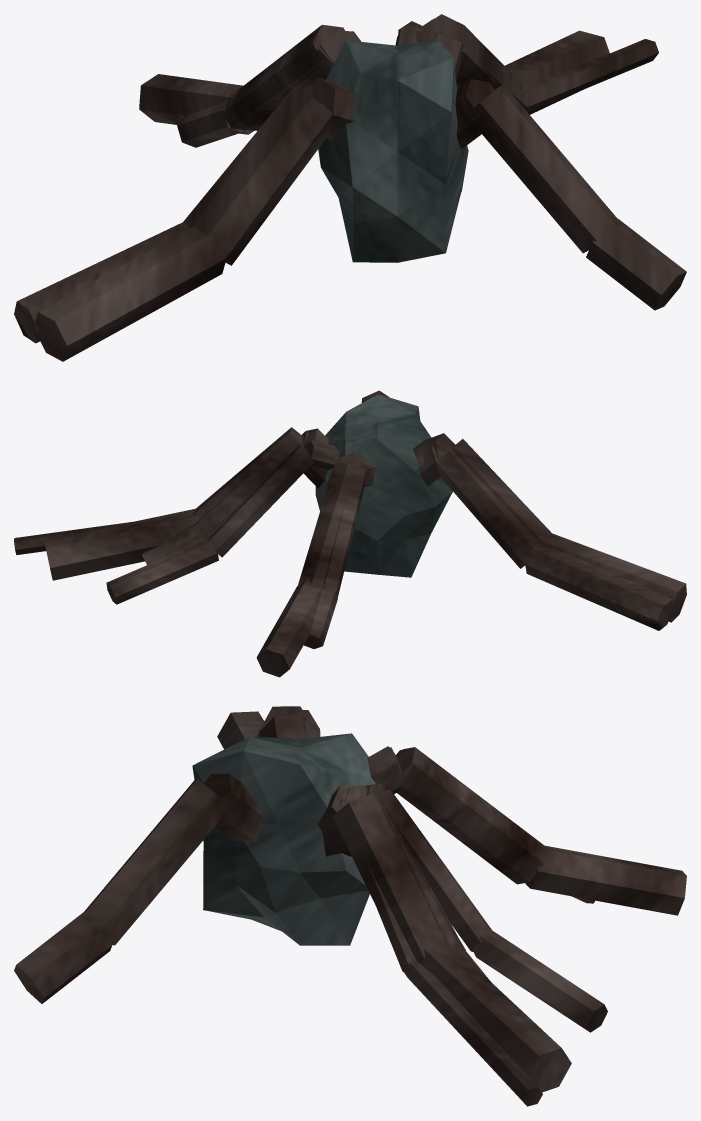
Rendered from 0162_root_cluster_12.glb.
The picture shows the model from 3 angles, top to bottom: view 1: azimuth 30°, elevation 25°; view 2: azimuth 150°, elevation 25°; view 3: azimuth 270°, elevation 25°; orthographic projection. The views are drawn at different scales.
Parts seen in each view (by area): view 1: wood_dark, stone_dark; view 2: wood_dark, stone_dark; view 3: wood_dark, stone_dark.
Part boxes in pixels (left/top/right/bottom): wood_dark: left=14, top=14, right=686, bottom=361; stone_dark: left=318, top=40, right=468, bottom=262; wood_dark: left=14, top=390, right=686, bottom=677; stone_dark: left=315, top=394, right=452, bottom=577; wood_dark: left=14, top=706, right=686, bottom=1106; stone_dark: left=192, top=733, right=375, bottom=945.
Bounding box in the file's own units: 2.59 × 0.6788 × 2.01.
2 materials, 2 textured.
